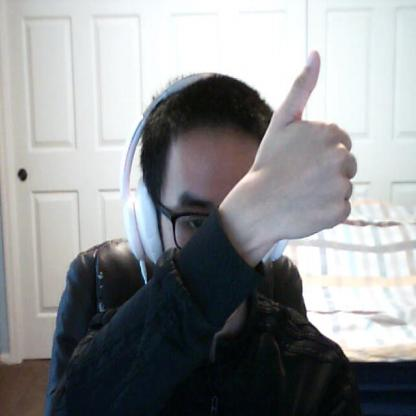Thumbs-Up: (254, 51, 358, 237)
